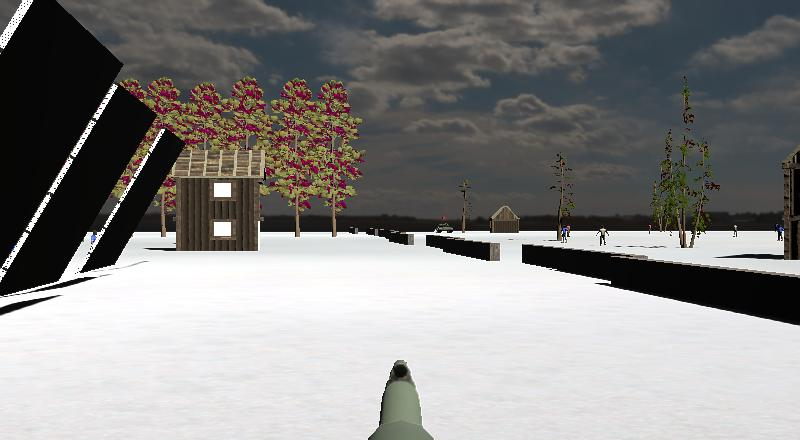House: (156, 127, 280, 275), (765, 122, 800, 272), (483, 198, 525, 240)
Human: (594, 221, 612, 250), (559, 222, 573, 246), (728, 218, 742, 241)
